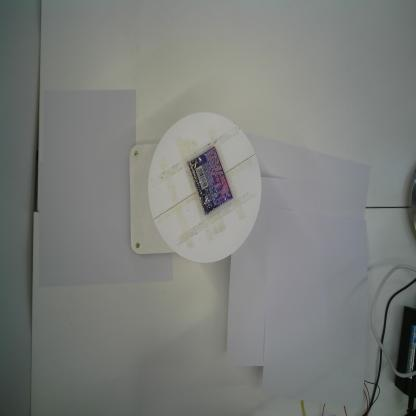Gum: (186, 145, 233, 216)
